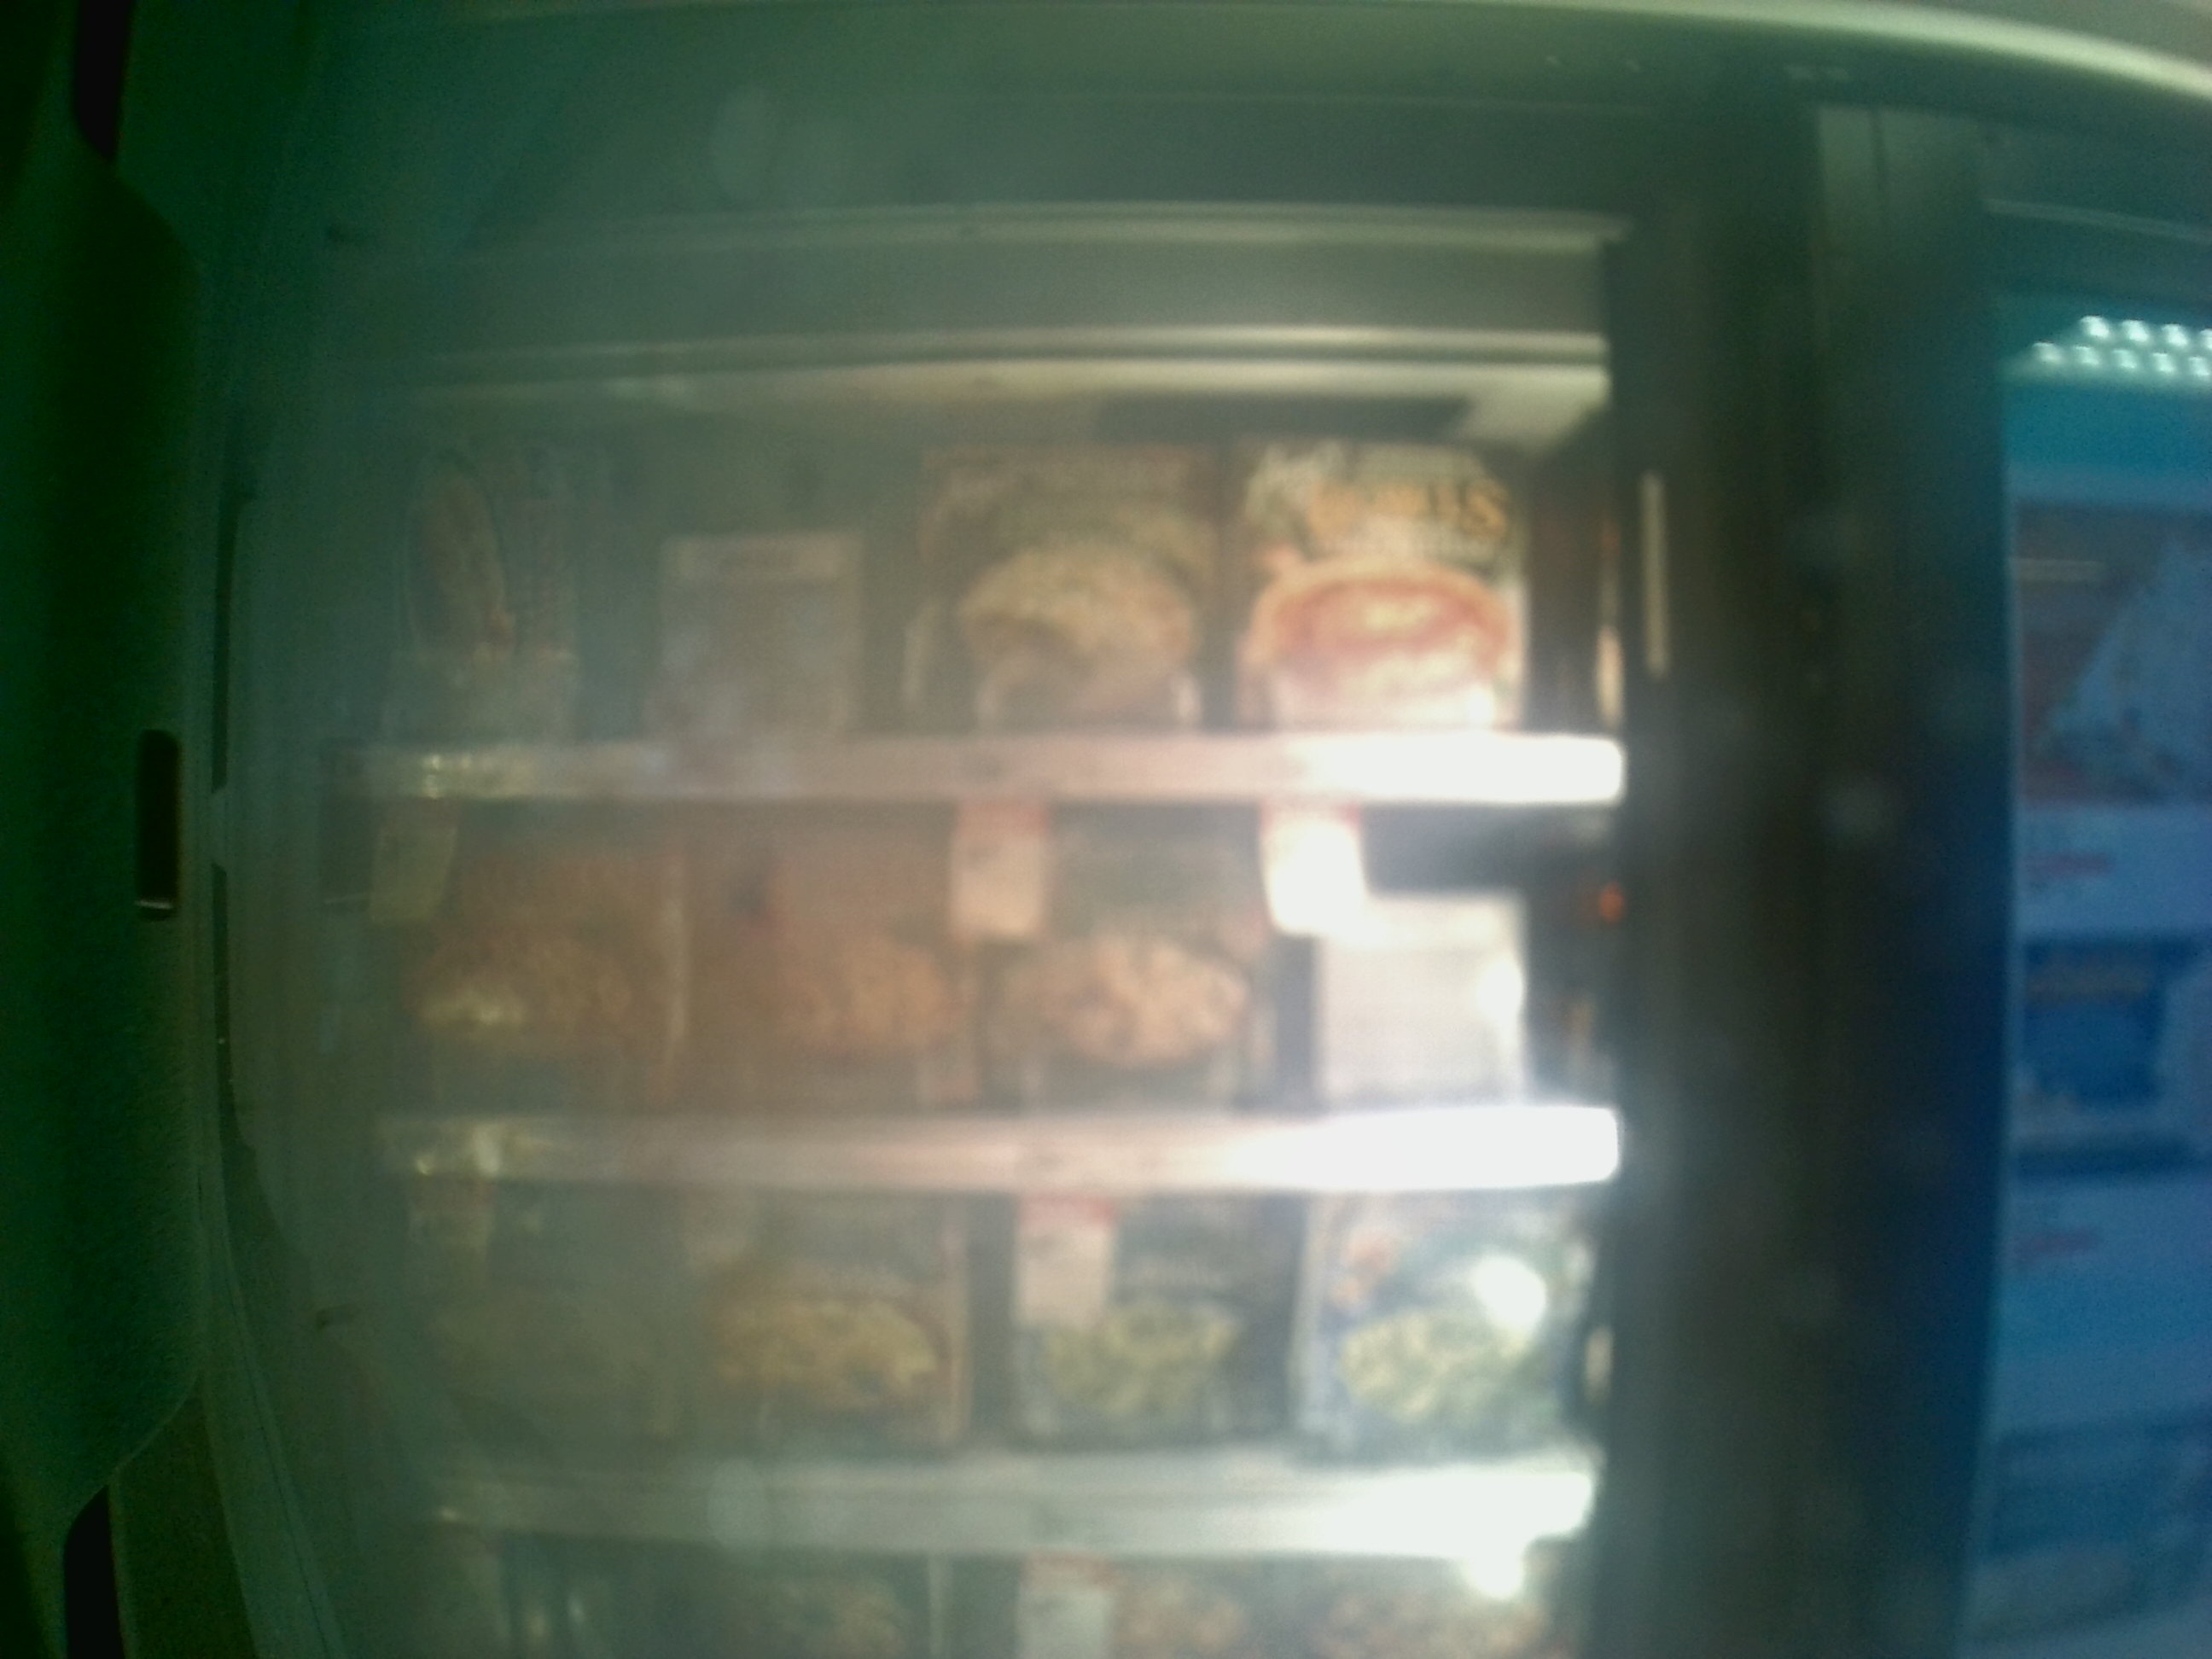frozen-food-shelf: (314, 401, 1649, 812), (310, 1190, 1686, 1572), (314, 817, 1672, 1185)
